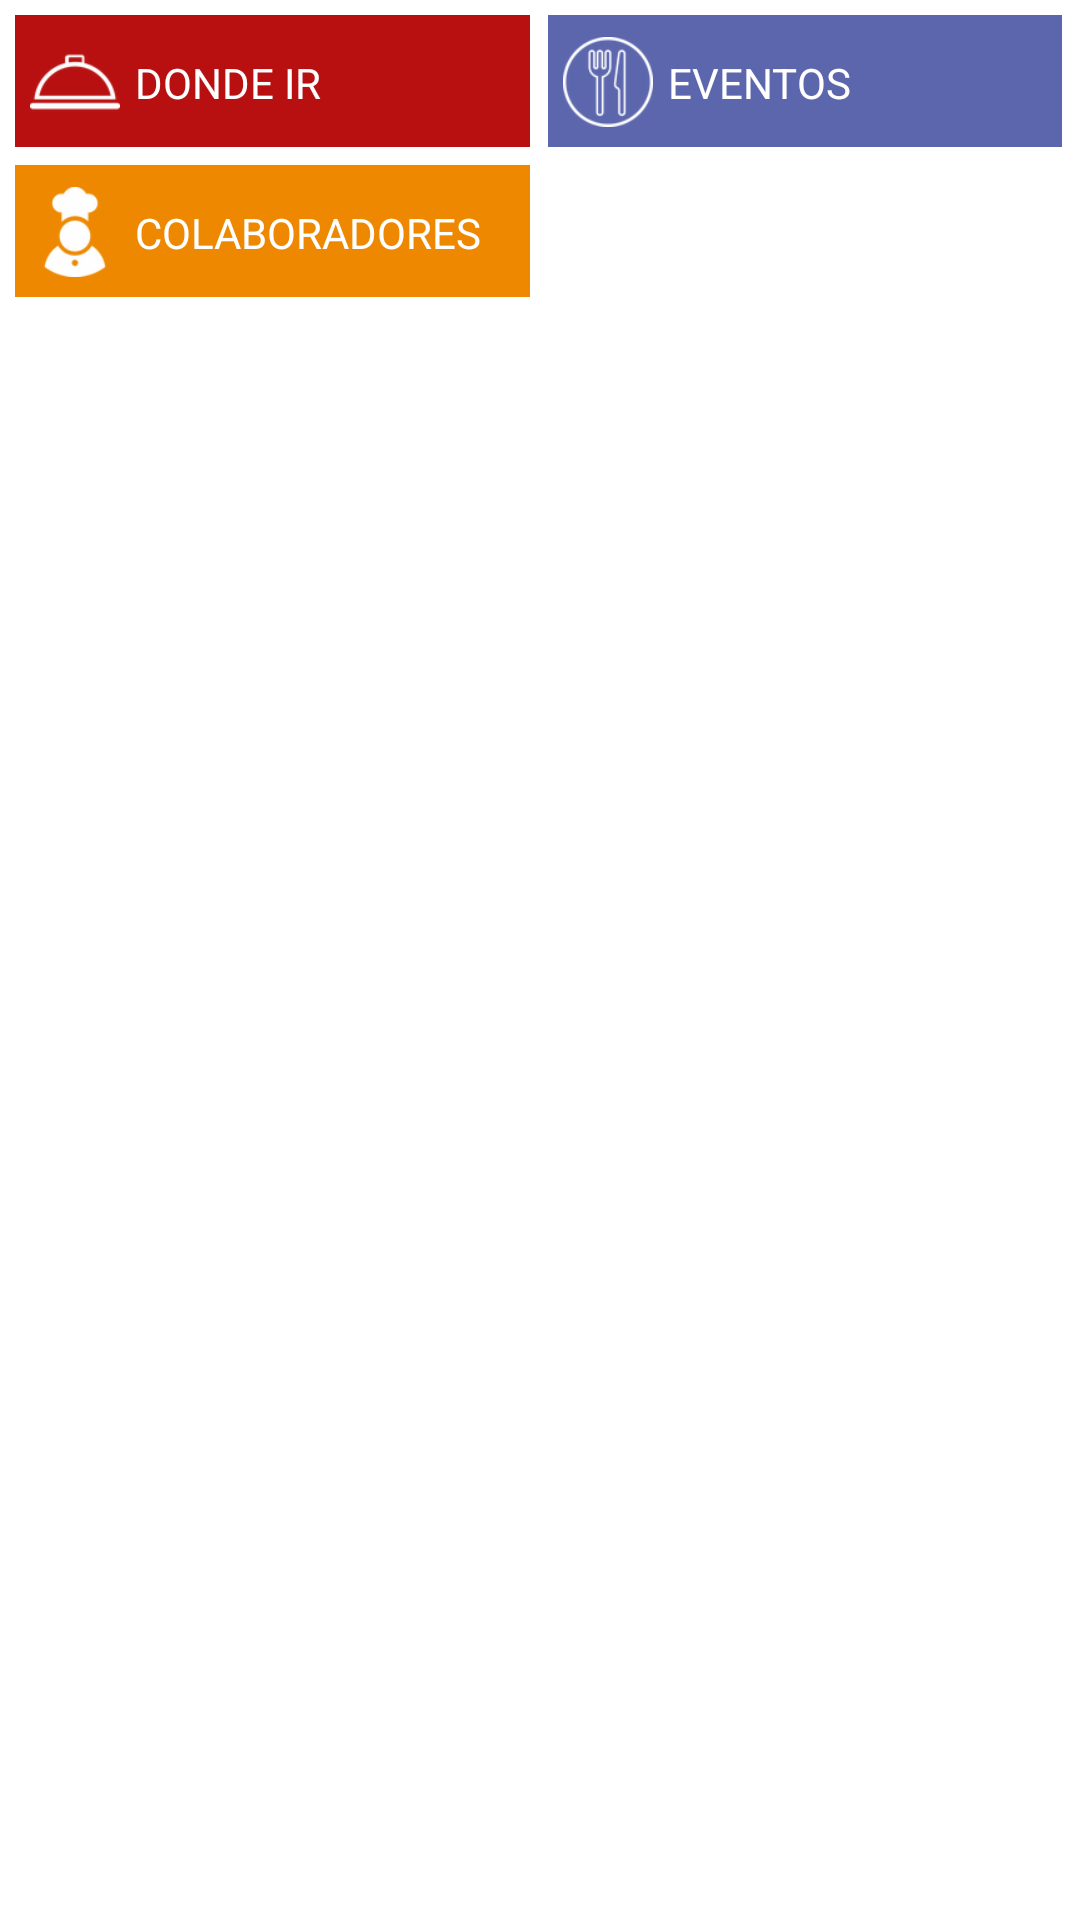

Screen size 1080px×1920px. Icon name, then its box in pixels as (x1, y1, x2, y2):
restaurantes: (30, 54, 120, 110)
